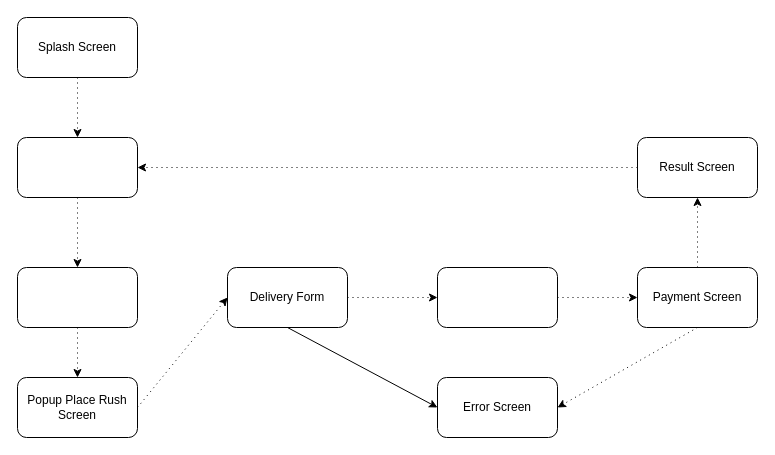
Some shapes in this 775 by 455 pixel diagram are drawn without their labels. Each missing label, with the box of its shape:
Cart Screen: (16, 266, 138, 328)
Home Screen: (16, 136, 138, 198)
Invoice Screen: (436, 266, 558, 328)
